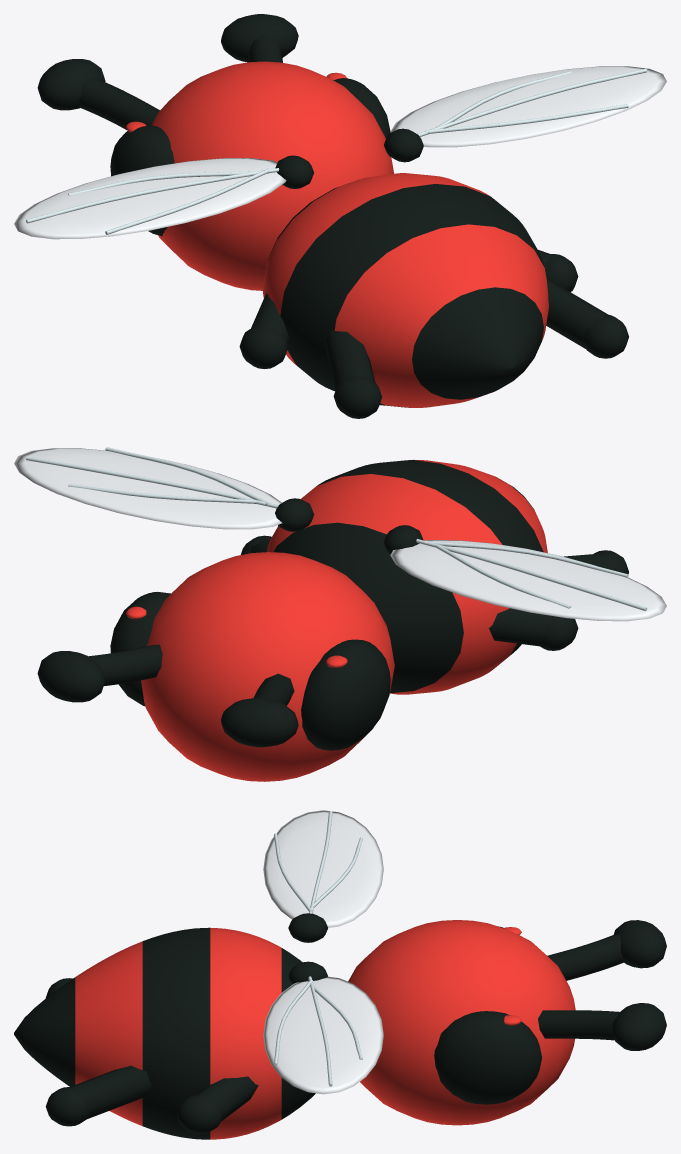
Rendered from Bee_Red.fbx.
3 views of the same model, one above another, from view 1: azimuth 30°, elevation 25°; view 2: azimuth 150°, elevation 25°; view 3: azimuth 270°, elevation 25° (orthographic). The views are drawn at different scales.
Visible parts, largest first — view 1: Gameplay_Bee_Red_Color, Gameplay_Bee_Red_Dark, Gameplay_Bee_Red_LeftMembrane, Gameplay_Bee_Red_RightMembrane, Bee_Red_Grip_RightRear, Bee_Red_Grip_LeftRear, Bee_Red_Grip_LeftFront, Bee_Red_Grip_RightFront; view 2: Gameplay_Bee_Red_Color, Gameplay_Bee_Red_Dark, Gameplay_Bee_Red_LeftMembrane, Gameplay_Bee_Red_RightMembrane, Bee_Red_Grip_LeftFront, Bee_Red_Grip_LeftRear; view 3: Gameplay_Bee_Red_Color, Gameplay_Bee_Red_Dark, Gameplay_Bee_Red_RightMembrane, Gameplay_Bee_Red_LeftMembrane, Bee_Red_Grip_RightRear, Bee_Red_Grip_RightFront.
Part boxes in pixels (x1,y1,x2,y2): Gameplay_Bee_Red_Color: [125, 61, 548, 407]; Gameplay_Bee_Red_Dark: [37, 14, 544, 407]; Gameplay_Bee_Red_LeftMembrane: [14, 158, 286, 239]; Gameplay_Bee_Red_RightMembrane: [390, 66, 666, 147]; Bee_Red_Grip_RightRear: [546, 278, 628, 358]; Bee_Red_Grip_LeftRear: [324, 330, 381, 418]; Bee_Red_Grip_LeftFront: [239, 293, 288, 368]; Bee_Red_Grip_RightFront: [538, 250, 578, 291]; Gameplay_Bee_Red_Color: [125, 459, 547, 781]; Gameplay_Bee_Red_Dark: [37, 460, 543, 750]; Gameplay_Bee_Red_LeftMembrane: [390, 539, 666, 621]; Gameplay_Bee_Red_RightMembrane: [14, 447, 282, 529]; Bee_Red_Grip_LeftFront: [489, 608, 578, 650]; Bee_Red_Grip_LeftRear: [564, 550, 628, 574]; Gameplay_Bee_Red_Color: [75, 920, 575, 1139]; Gameplay_Bee_Red_Dark: [14, 913, 666, 1139]; Gameplay_Bee_Red_RightMembrane: [263, 976, 383, 1094]; Gameplay_Bee_Red_LeftMembrane: [263, 810, 383, 927]; Bee_Red_Grip_RightRear: [45, 1065, 151, 1126]; Bee_Red_Grip_RightFront: [176, 1076, 258, 1133].
Bounding box in the file's own units: 329 × 104 × 320.
